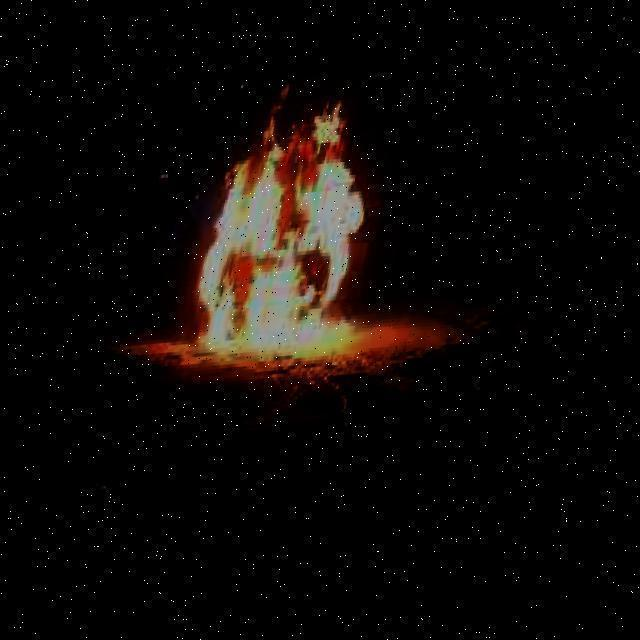Fire: (191, 95, 427, 392)
